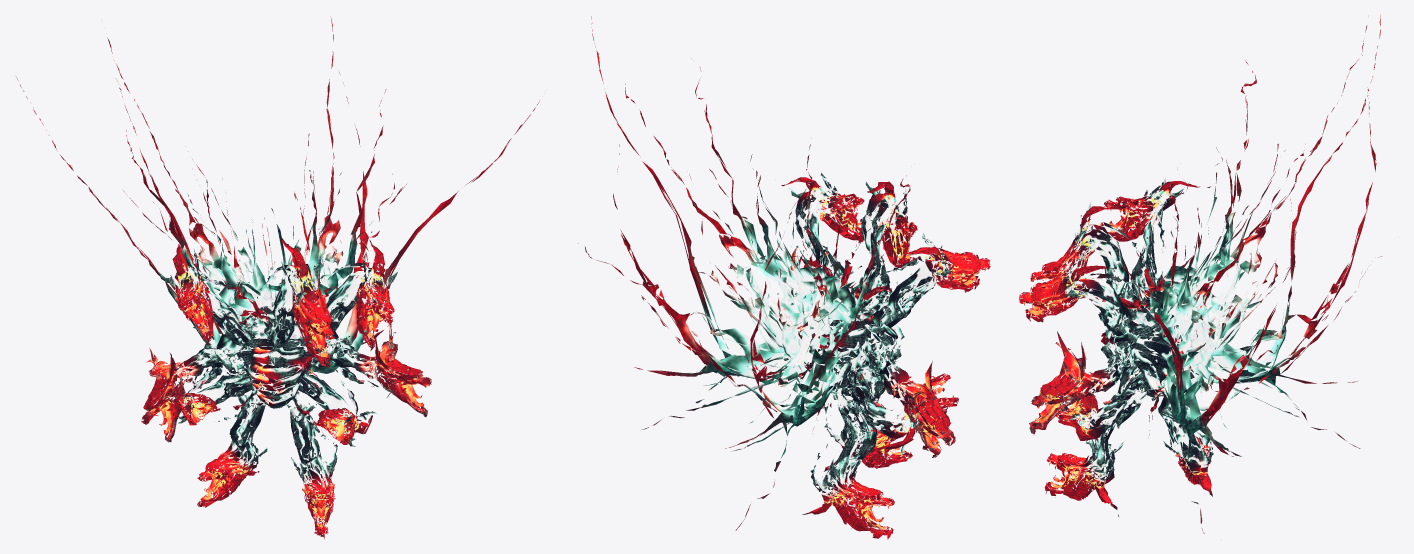
Rendered from JiuYing.glb.
The picture shows the model from 3 angles, left to right: view 1: azimuth 30°, elevation 25°; view 2: azimuth 150°, elevation 25°; view 3: azimuth 270°, elevation 25°; orthographic projection. The views are drawn at different scales.
Parts seen in each view (by area): view 1: Retopo_QuickCurve.064, Retopo_dragon-head.020, Retopo_QuickCurve.025, Retopo_dragon-head.019, Retopo_dragon-head.024, Retopo_dragon-head.015, Retopo_dragon-head.023, Retopo_dragon-head.018, Retopo_dragon-head.010, Retopo_dragon-head.021, Retopo_dragon-head.022, Retopo_QuickCurve.027; view 2: Retopo_QuickCurve.064, Retopo_dragon-head.018, Retopo_dragon-head.019, Retopo_dragon-head.023, Retopo_dragon-head.020, Retopo_dragon-head.024, Retopo_dragon-head.022, Retopo_QuickCurve.027, Retopo_dragon-head.010, Retopo_QuickCurve.025; view 3: Retopo_QuickCurve.064, Retopo_dragon-head.015, Retopo_dragon-head.024, Retopo_dragon-head.023, Retopo_dragon-head.020, Retopo_dragon-head.010, Retopo_QuickCurve.027, Retopo_dragon-head.021, Retopo_dragon-head.018, Retopo_QuickCurve.025.
Boxes of the visible parts, <box> form: Retopo_QuickCurve.064: <box>16,16,539,397</box>; Retopo_dragon-head.020: <box>256,238,334,367</box>; Retopo_QuickCurve.025: <box>222,279,336,432</box>; Retopo_dragon-head.019: <box>141,327,258,442</box>; Retopo_dragon-head.024: <box>297,231,399,350</box>; Retopo_dragon-head.015: <box>296,323,431,417</box>; Retopo_dragon-head.023: <box>157,237,265,351</box>; Retopo_dragon-head.018: <box>197,388,267,507</box>; Retopo_dragon-head.010: <box>286,392,337,539</box>; Retopo_dragon-head.021: <box>278,363,376,446</box>; Retopo_dragon-head.022: <box>160,364,264,425</box>; Retopo_QuickCurve.027: <box>225,306,343,405</box>; Retopo_QuickCurve.064: <box>578,16,910,530</box>; Retopo_dragon-head.018: <box>802,384,894,539</box>; Retopo_dragon-head.019: <box>855,323,955,457</box>; Retopo_dragon-head.023: <box>864,233,990,345</box>; Retopo_dragon-head.020: <box>859,181,917,318</box>; Retopo_dragon-head.024: <box>781,173,875,283</box>; Retopo_dragon-head.022: <box>841,352,958,455</box>; Retopo_QuickCurve.027: <box>774,241,915,435</box>; Retopo_dragon-head.010: <box>822,379,912,476</box>; Retopo_QuickCurve.025: <box>785,252,897,407</box>; Retopo_QuickCurve.064: <box>1112,14,1381,533</box>; Retopo_dragon-head.015: <box>1029,329,1142,434</box>; Retopo_dragon-head.024: <box>1019,253,1140,353</box>; Retopo_dragon-head.023: <box>1100,178,1210,306</box>; Retopo_dragon-head.020: <box>1030,202,1145,324</box>; Retopo_dragon-head.010: <box>1044,386,1146,516</box>; Retopo_QuickCurve.027: <box>1091,250,1218,434</box>; Retopo_dragon-head.021: <box>1055,355,1157,455</box>; Retopo_dragon-head.018: <box>1158,380,1213,496</box>; Retopo_QuickCurve.025: <box>1100,255,1193,396</box>.
Bounding box in the file's own units: 2.86 × 2.91 × 2.23.
4 materials, 4 textured.
